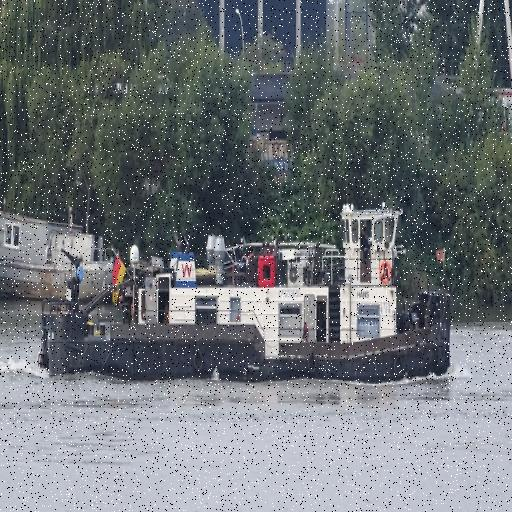tugboat: (38, 198, 460, 413)
